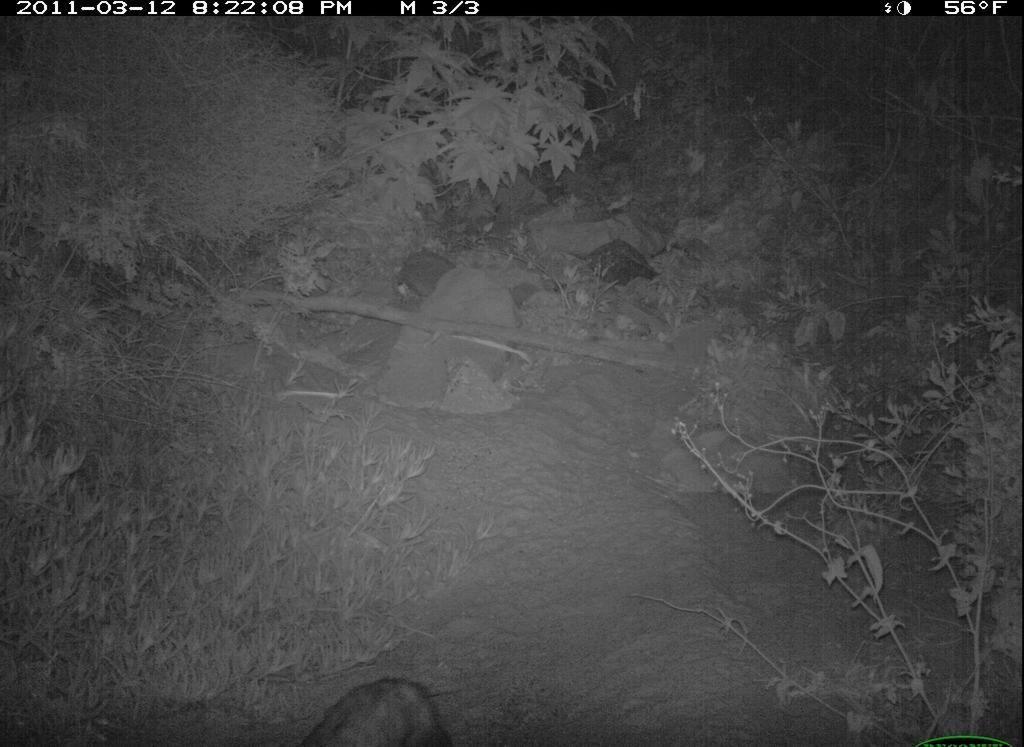opossum: (289, 669, 457, 744)
